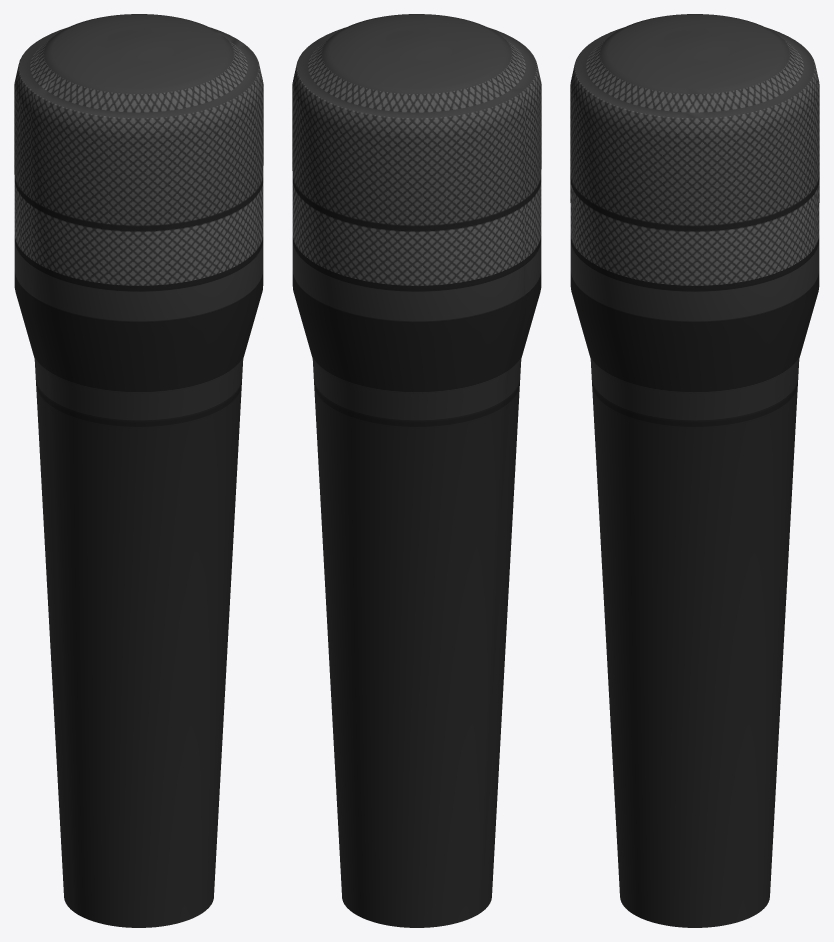
The model's file is audix-i5.glb.
3 renders of one model, left to right at view 1: azimuth 30°, elevation 25°; view 2: azimuth 150°, elevation 25°; view 3: azimuth 270°, elevation 25°, orthographic.
Visible parts, largest first — view 1: audix-i5-body; view 2: audix-i5-body; view 3: audix-i5-body.
Boxes of the visible parts, x1=… form: audix-i5-body: x1=14, y1=14, x2=263, y2=927; audix-i5-body: x1=292, y1=14, x2=541, y2=927; audix-i5-body: x1=570, y1=14, x2=819, y2=927.
Bounding box in the file's own units: 0.0375 × 0.1415 × 0.0375.
1 material, 1 textured.
